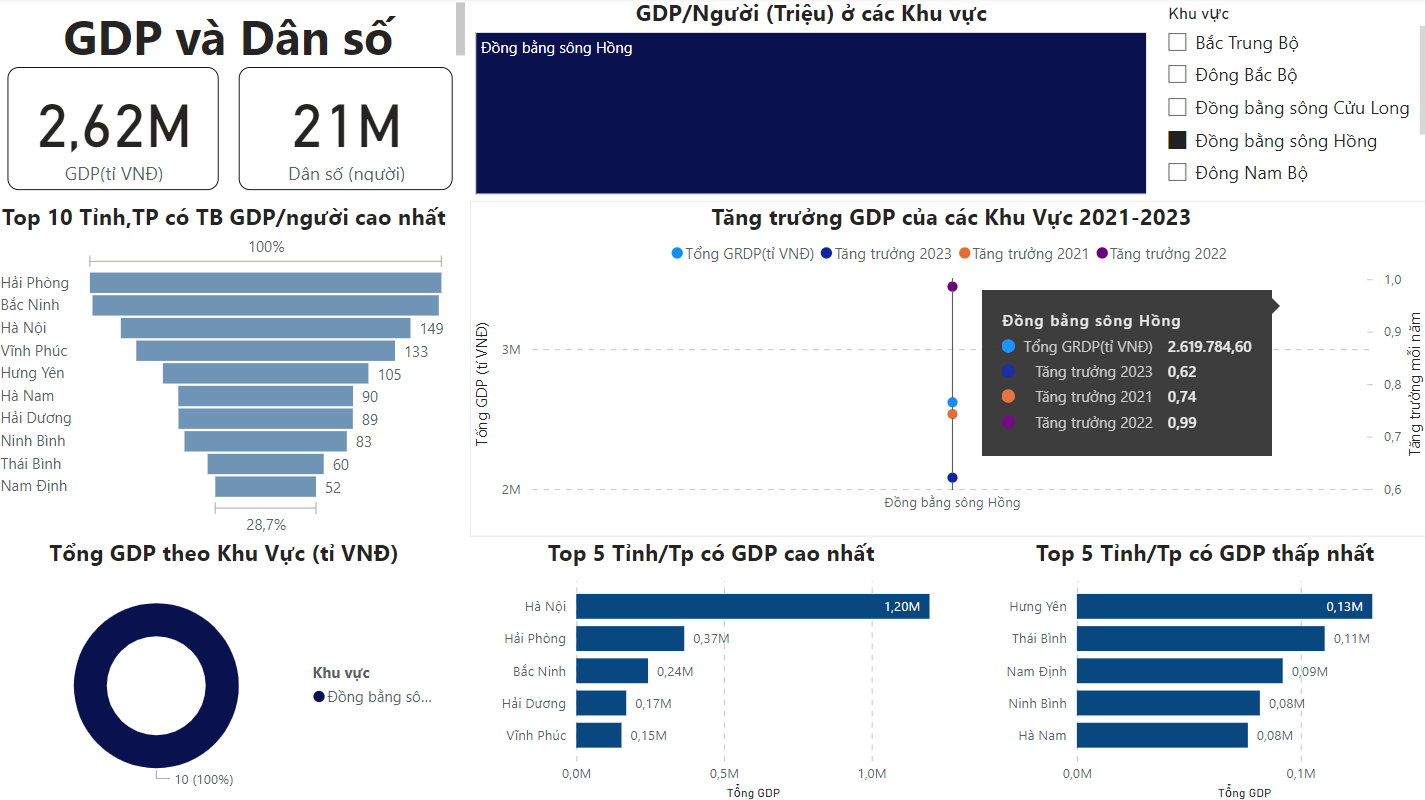

The dashboard page shown, as its layout file describes it:
{"tool":"powerbi","page":{"name":"Page 1","canvas":[1280,720],"ordinal":0},"visuals":[{"type":"card","fields":{"Values":["Sum(DS Tinh.Tổng GRDP(tỉ VNĐ))"]},"box":[10.9,62.7,188.1,109.7],"z":0},{"type":"card","fields":{"Values":["Sum(DS Tinh.Dân số (người))"]},"box":[217.1,62.7,190.6,109.7],"z":1000},{"type":"lineChart","title":"Tăng trưởng GDP của các Khu Vực 2021-2023","fields":{"Y":["Sum(DS Tinh.Tổng GRDP(tỉ VNĐ))"],"Y2":["Sum(DS Tinh.Tăng trưởng 2023)","Sum(DS Tinh.Tăng trưởng 2021)","Sum(DS Tinh.Tăng trưởng 2022)"],"Category":["DS Tinh.Khu vực"]},"box":[423.3,180.9,857.5,300.3],"z":2000},{"type":"donutChart","title":"Tổng GDP theo Khu Vực (tỷ VNĐ)","fields":{"Category":["DS Tinh.Khu vực"],"Y":["CountNonNull(DS Tinh.Tổng GRDP(tỉ VNĐ))"]},"box":[0,481.2,407.6,238.8],"z":3000},{"type":"barChart","title":"Top 5 Tỉnh/Tp có GDP cao nhất","fields":{"Category":["DS Tinh.Tên tỉnh, thành phố"],"Y":["Sum(DS Tinh.Tổng GRDP(tỉ VNĐ))"]},"box":[423.3,481.2,429.3,238.8],"z":4000},{"type":"barChart","title":"Top 5 Tỉnh/Tp có GDP thấp nhất","fields":{"Category":["DS Tinh.Tên tỉnh, thành phố"],"Y":["Sum(DS Tinh.Tổng GRDP(tỉ VNĐ))"]},"box":[873.2,481.2,407.6,238.8],"z":5000},{"type":"slicer","fields":{"Values":["DS Tinh.Khu vực"]},"box":[1031.2,0,249.6,180.9],"z":6000},{"type":"textbox","box":[0,0,423.3,61.5],"z":7000},{"type":"treemap","title":"GDP/Người (Triệu) ở các Khu vực","fields":{"Group":["DS Tinh.Khu vực"],"Values":["Sum(DS Tinh.GDP/Người (Triệu))"]},"box":[423.3,0,607.8,180.9],"z":8000},{"type":"funnel","title":"Top 10 Tỉnh,TP có GDP/người cao nhất","fields":{"Category":["DS Tinh.Tên tỉnh, thành phố"],"Y":["Avg(DS Tinh.GDP/Người (Triệu))"]},"box":[0,180.9,407.6,301.5],"z":9000}]}

Visuals, with their boxes in screenshot pixels (x1, y1, x2, y2), scaled from the page's 1280x720 canvas onto the 1425x800 screenshot:
card - Sum(DS Tinh.Tổng GRDP(tỉ VNĐ)): (x1=12, y1=70, x2=222, y2=192)
card - Sum(DS Tinh.Dân số (người)): (x1=242, y1=70, x2=454, y2=192)
"Tăng trưởng GDP của các Khu Vực 2021-2023" lineChart: (x1=471, y1=201, x2=1424, y2=535)
"Tổng GDP theo Khu Vực (tỷ VNĐ)" donutChart: (x1=0, y1=535, x2=454, y2=799)
"Top 5 Tỉnh/Tp có GDP cao nhất" barChart: (x1=471, y1=535, x2=949, y2=799)
"Top 5 Tỉnh/Tp có GDP thấp nhất" barChart: (x1=972, y1=535, x2=1424, y2=799)
slicer - DS Tinh.Khu vực: (x1=1148, y1=0, x2=1424, y2=201)
textbox: (x1=0, y1=0, x2=471, y2=68)
"GDP/Người (Triệu) ở các Khu vực" treemap: (x1=471, y1=0, x2=1148, y2=201)
"Top 10 Tỉnh,TP có GDP/người cao nhất" funnel: (x1=0, y1=201, x2=454, y2=536)
